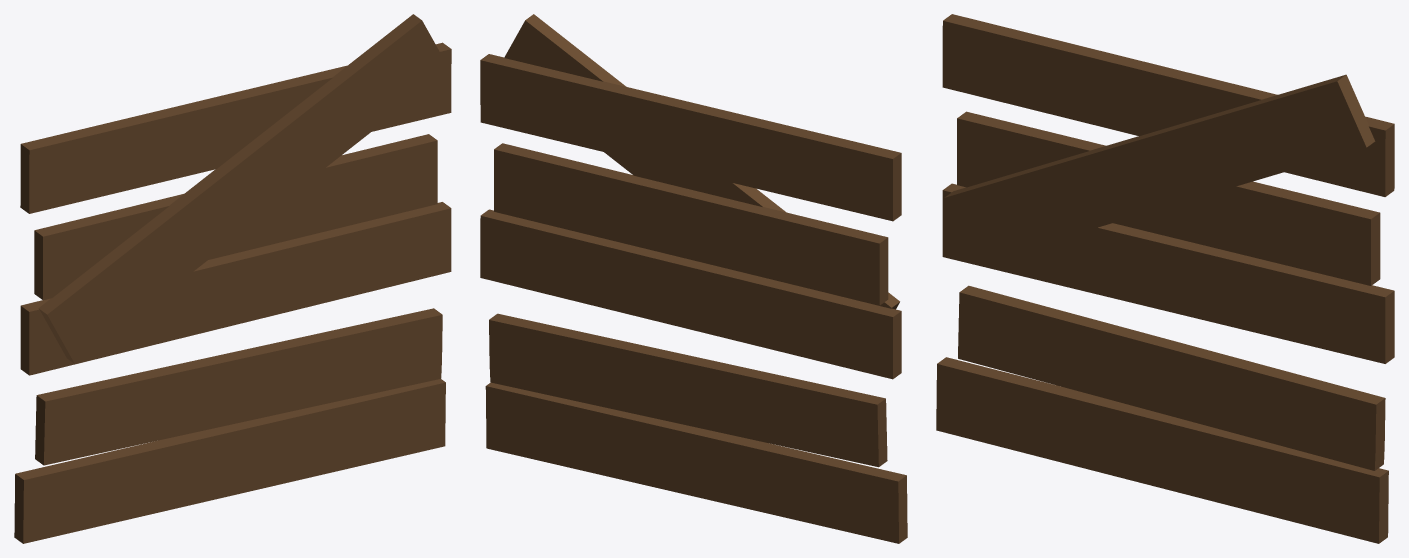
File: apocalypse_barricade-window.fbx
3 views of the same model, side by side, from view 1: azimuth 30°, elevation 25°; view 2: azimuth 150°, elevation 25°; view 3: azimuth 330°, elevation 25° (orthographic). The views are drawn at different scales.
Visible parts, largest first — view 1: apocalypse_barricade_window; view 2: apocalypse_barricade_window; view 3: apocalypse_barricade_window.
Part boxes in pixels (x1,y1,x2,y2): apocalypse_barricade_window: (14,14,451,543); apocalypse_barricade_window: (480,14,907,543); apocalypse_barricade_window: (936,14,1394,543).
Bounding box in the file's own units: 122 × 120 × 8.43.
